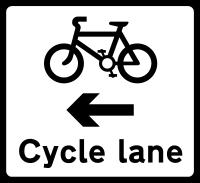Cycle Crossing: (21, 14, 184, 170)
